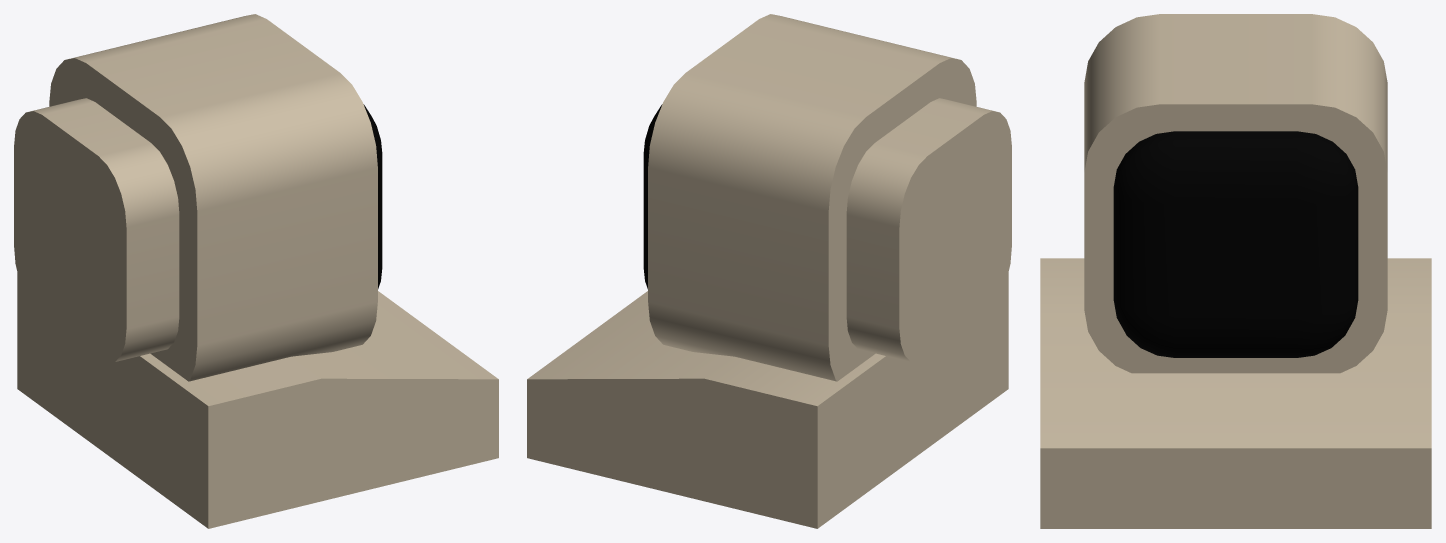
File: computer.fbx
3 renders of one model, left to right at view 1: azimuth 30°, elevation 25°; view 2: azimuth 150°, elevation 25°; view 3: azimuth 270°, elevation 25°, orthographic. The views are drawn at different scales.
Parts seen in each view (by area): view 1: pCube123; view 2: pCube123; view 3: pCube123.
Boxes of the visible parts, x1=… form: pCube123: x1=14, y1=14, x2=498, y2=528; pCube123: x1=527, y1=14, x2=1011, y2=528; pCube123: x1=1040, y1=14, x2=1431, y2=528.
Bounding box in the file's own units: 4.49 × 4.72 × 4.46.
